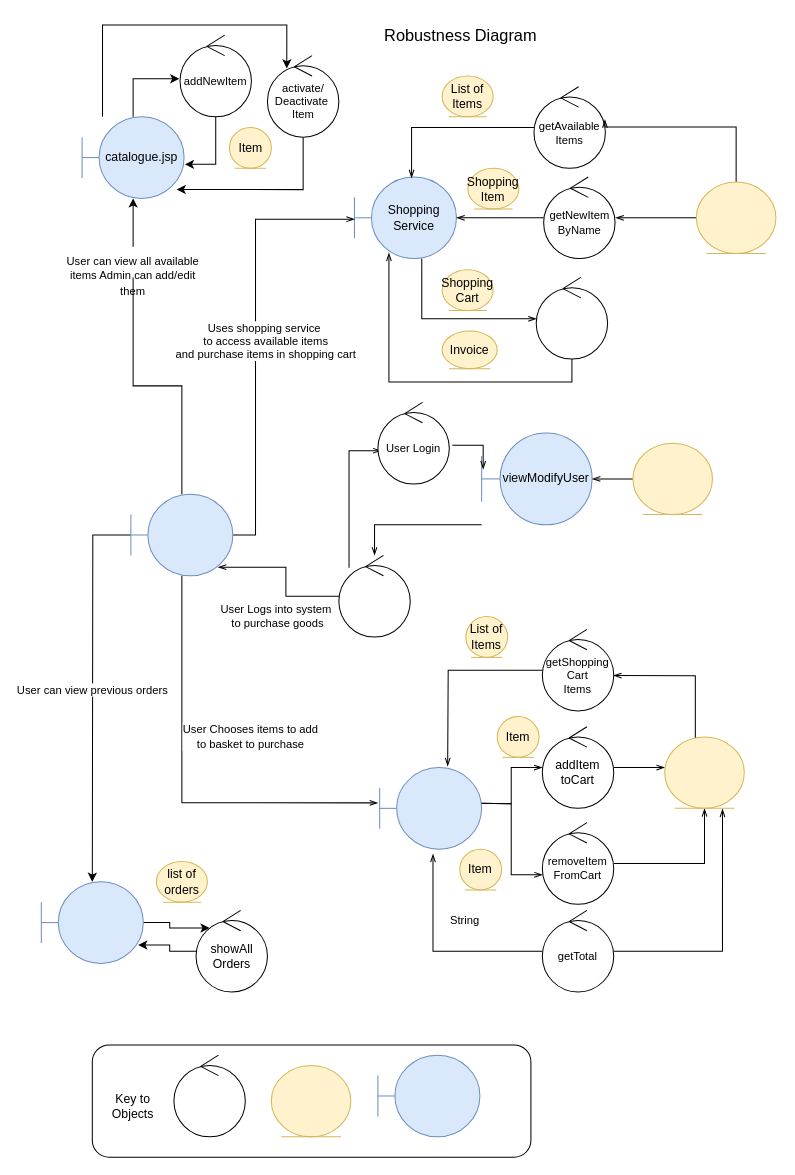
Image size: 795x1175. Some labels were removed from this diagram. Each missing label, with the box of its shape:
Basket Items: (664, 736, 744, 808)
basket.jsp: (379, 767, 482, 849)
Boundary Object: (377, 1054, 480, 1137)
Control Object: (173, 1054, 245, 1137)
Entity Object: (270, 1064, 351, 1137)
home.jsp: (130, 493, 233, 576)
ItemMap: (695, 181, 776, 253)
myOrders: (40, 881, 143, 963)
purchase Items: (535, 276, 608, 359)
user Details: (632, 442, 712, 515)
user logged in: (338, 554, 410, 637)
